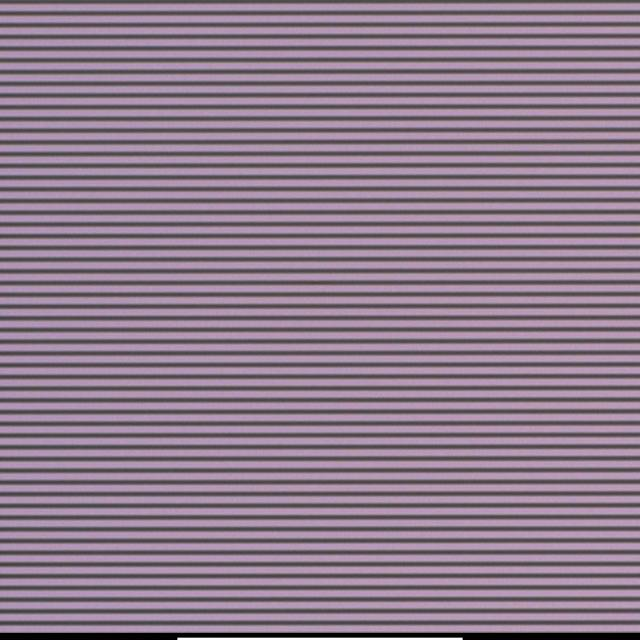03_intrusion: (314, 308, 318, 311)
